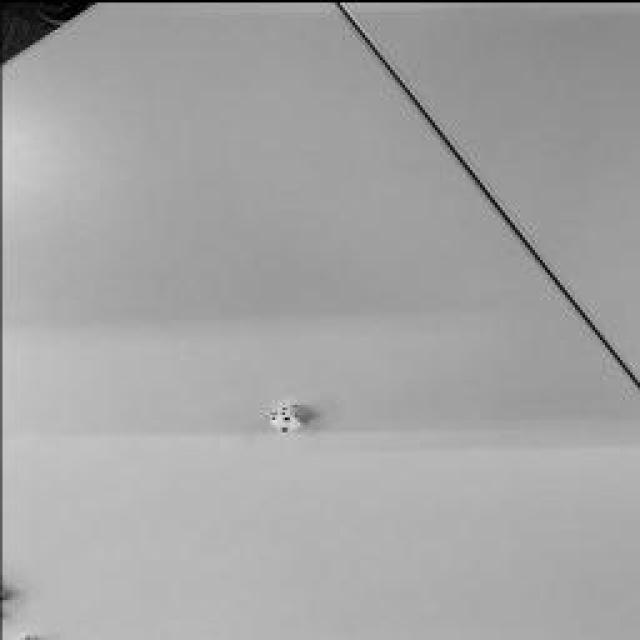dice_2: (270, 414, 300, 431)
